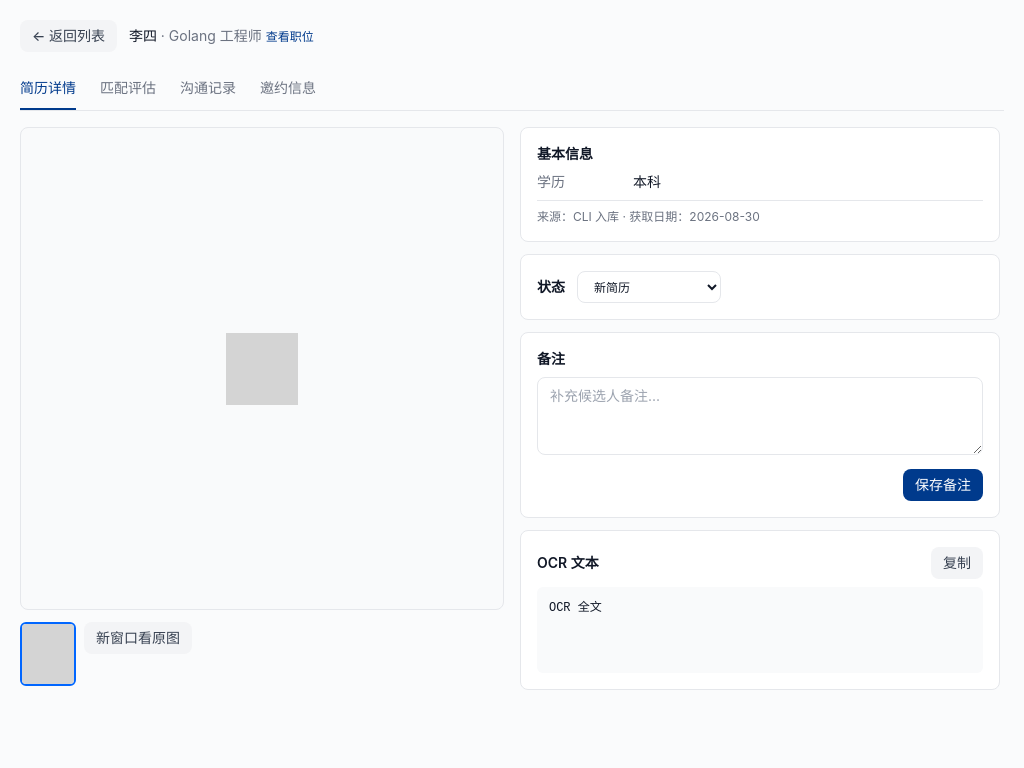
ResumeDetail 挂载冒烟 › 邀约信息 tab：首次激活懒挂载并拉取列表，空态提示
What coordinates should you click on to do the following:
click the button "邀约信息"
I would click on:
 (288, 89)
Its box is x1=260 y1=68 x2=316 y2=110.
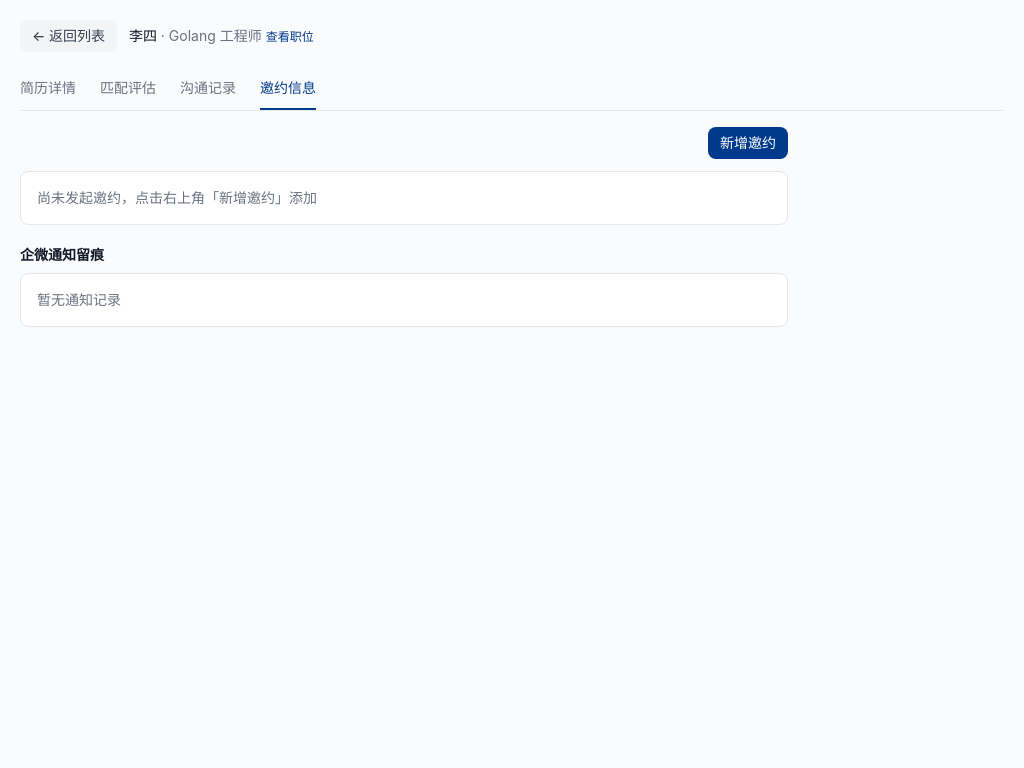
Check: the text "尚未发起邀约" is shown, box x1=37 y1=189 x2=317 y2=206
Check: the text "新增邀约" is shown, box x1=708 y1=127 x2=788 y2=159
